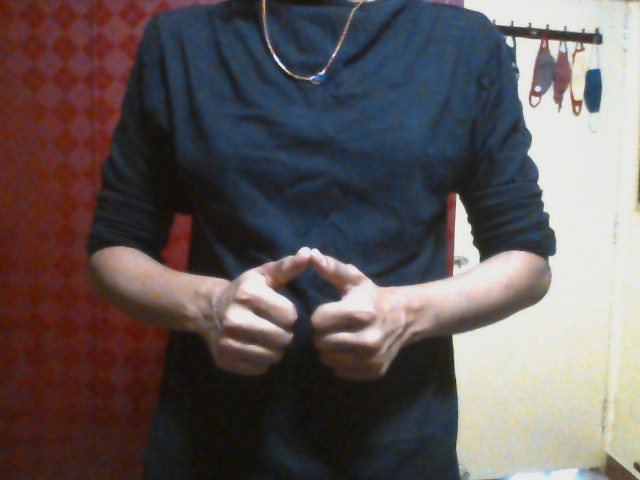A: (210, 246, 393, 382)
